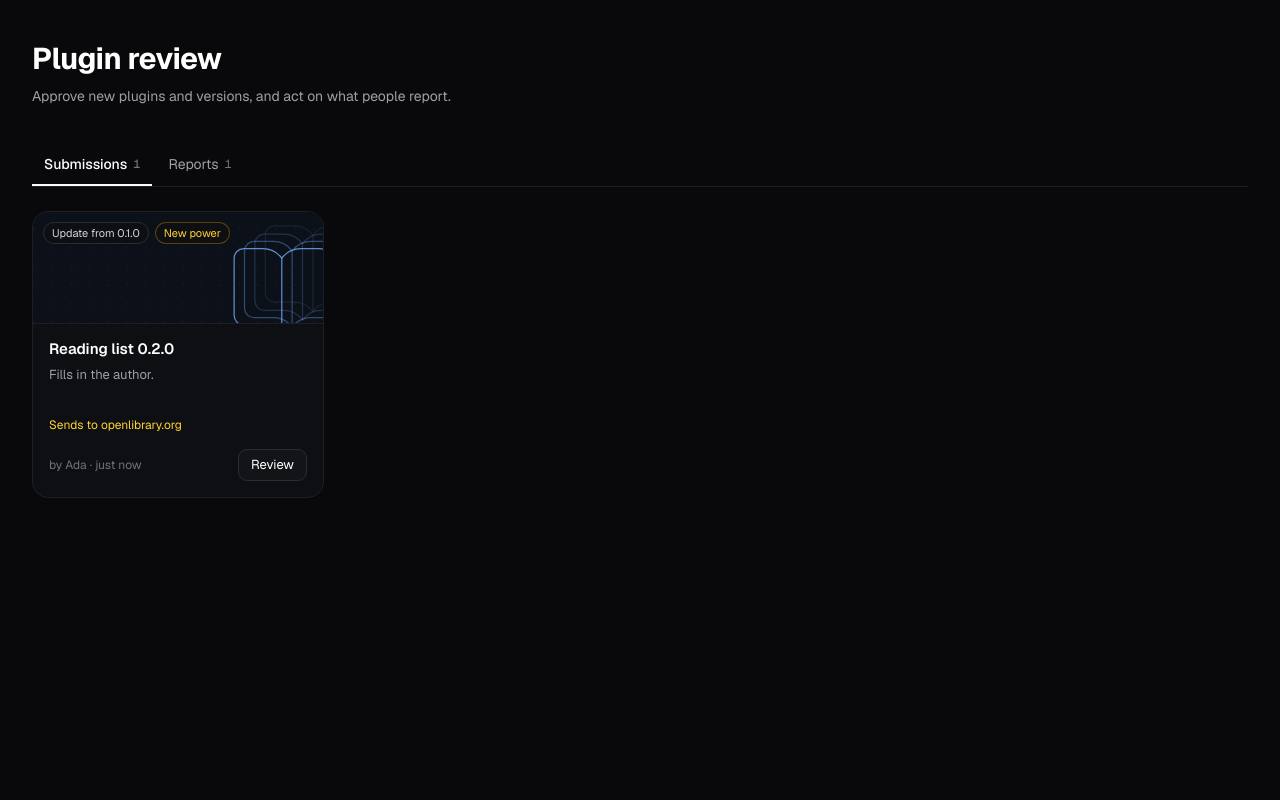
Test: AdminPluginsContent › shows reports as cards and opens the moderation sheet
Click the tab "Reports 1" at [200, 164], box [156, 142, 244, 186]
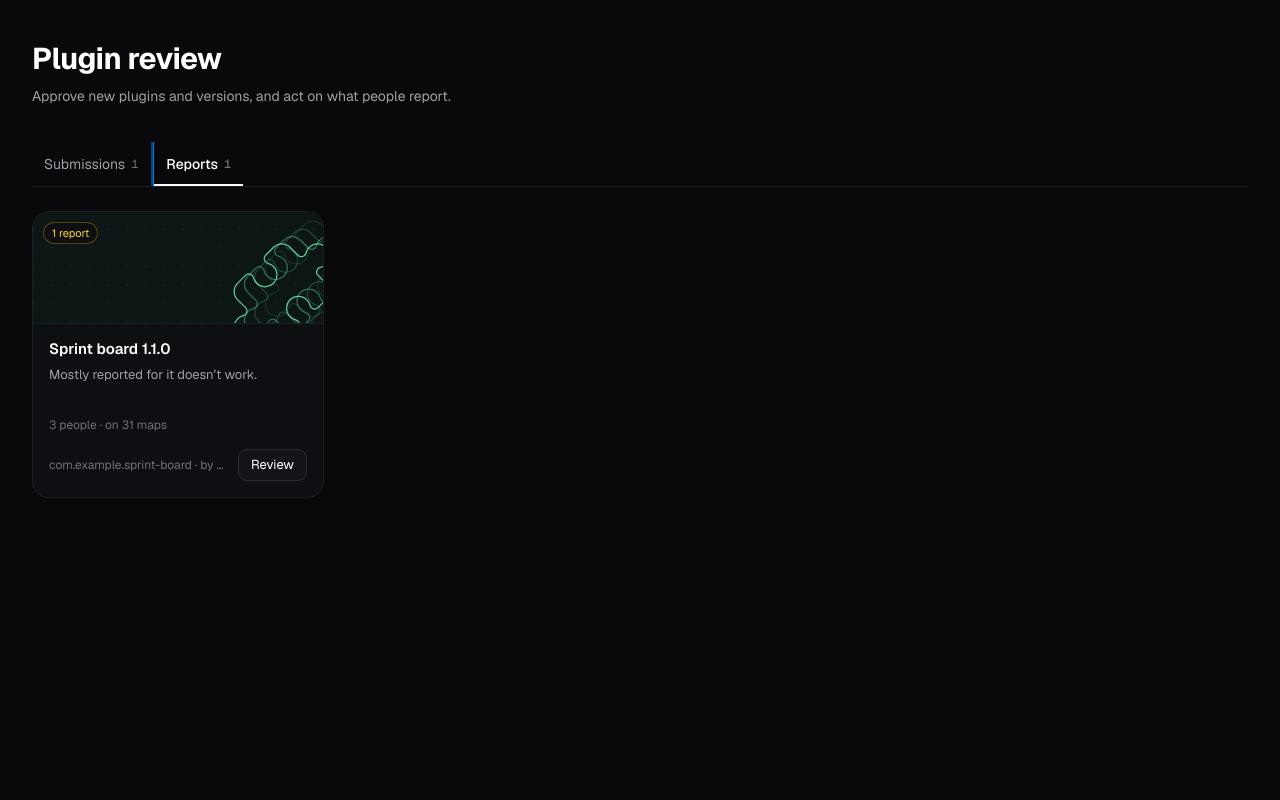
Expected: the text "1 report" is shown, [43, 222, 98, 244]
Click the button "Review" at [272, 464], box [238, 448, 307, 480]
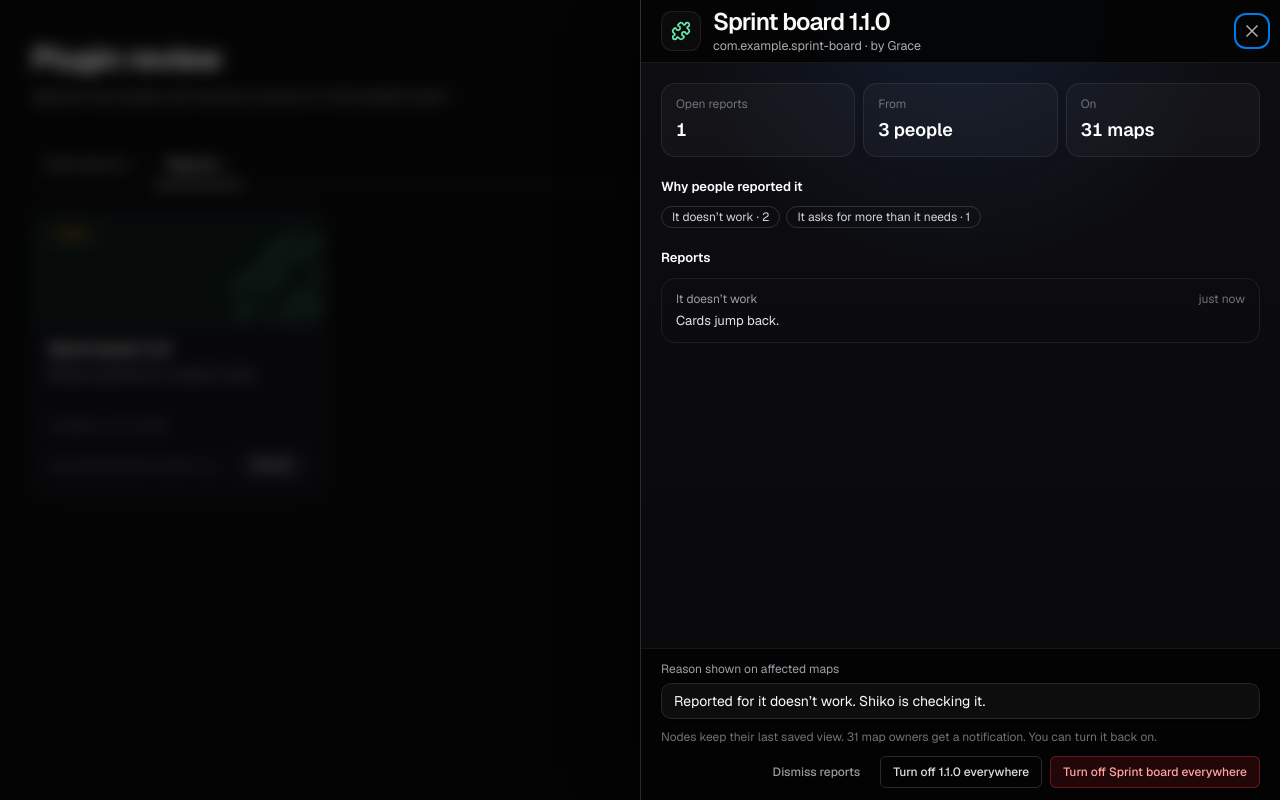
Expected: the button "Turn off Sprint board everywhere" is shown, [1050, 756, 1260, 788]
Expected: the text "Cards jump back." is shown, [676, 312, 779, 329]
